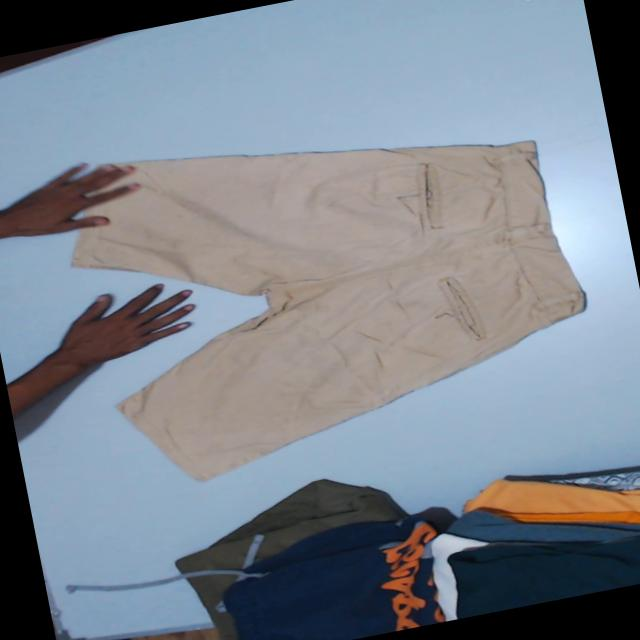new-garment: (73, 140, 584, 480)
